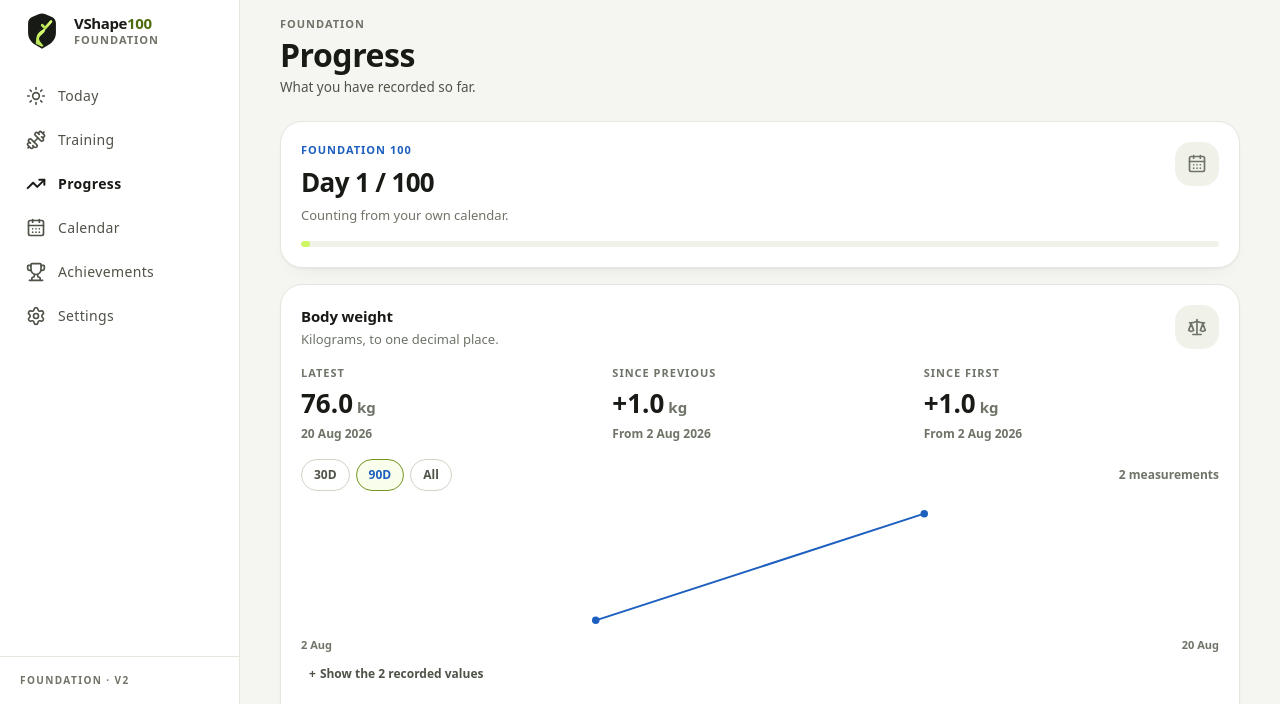
Test: 2. a FAILED refetch at midnight › recovers on retry, without having shown stale data as current
Expected: the heading "Progress" is shown, 280,32 -> 415,76
Step 1. Click the button "30D" → point(325, 475), box 301,459 -> 350,491
(page scrolled)
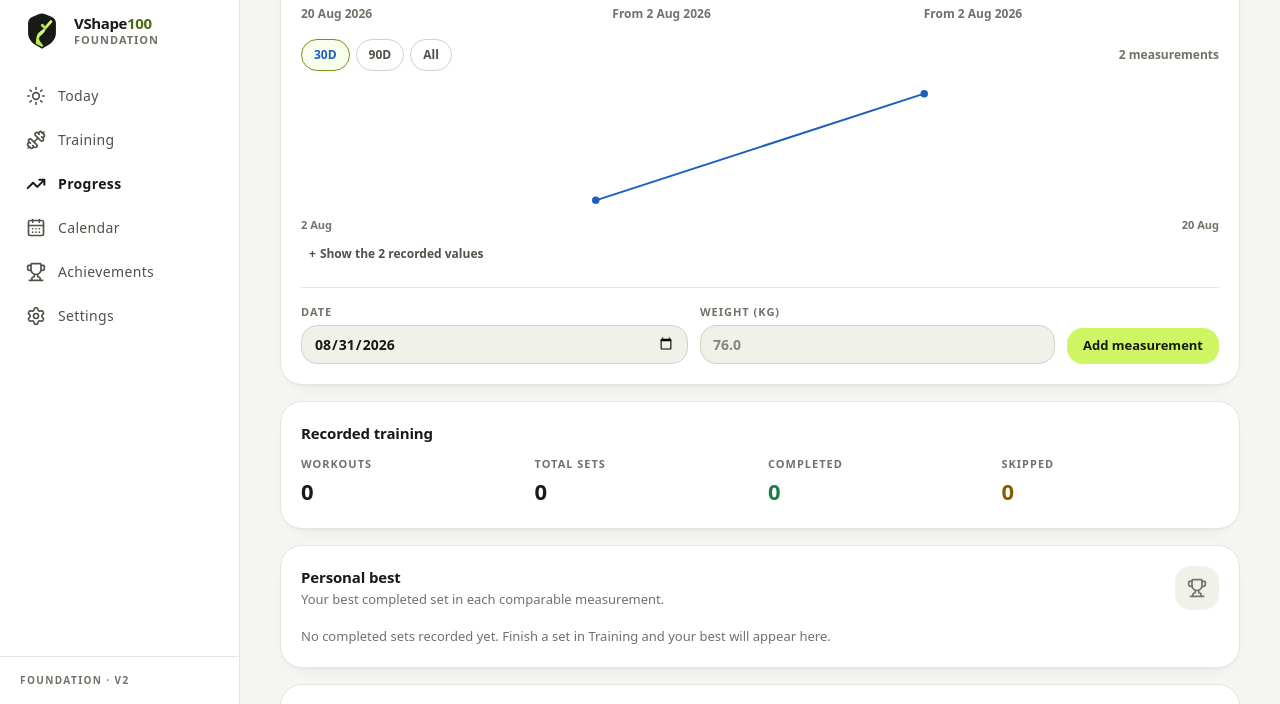
Expected: the text "2 measurements" is shown, 1119,46 -> 1219,64
Step 2. Type "2026-08-15" into the date field labelled "Date" → point(494, 344), box 301,325 -> 688,364
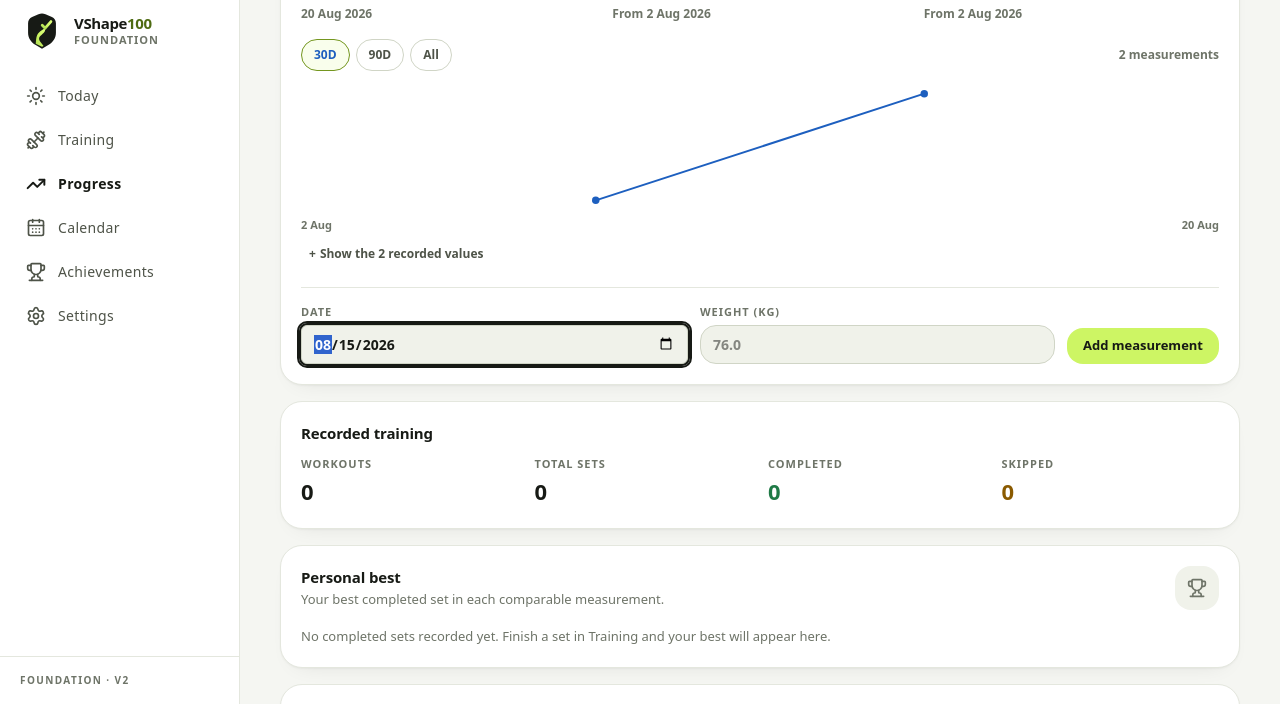
Step 3. Type "77.4" into the number field labelled "Weight (kg)" → point(878, 344), box 700,325 -> 1055,364
Wait 359700 ms
(page scrolled)
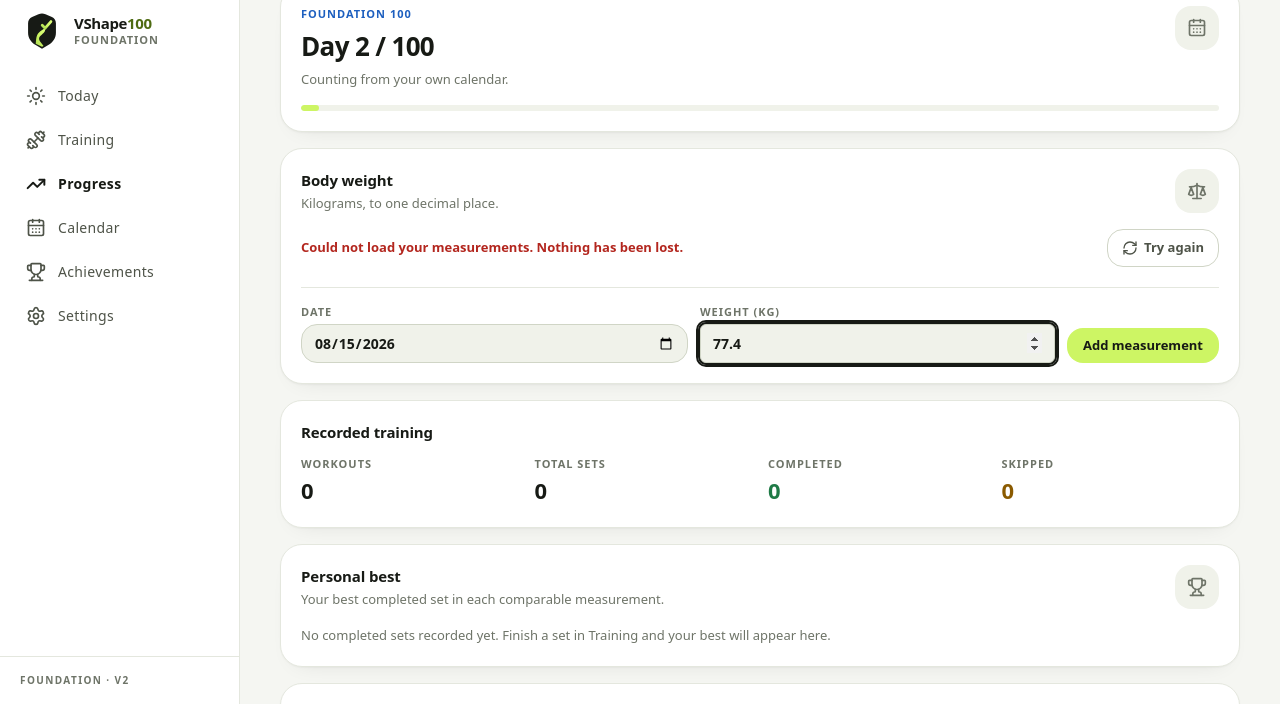
Step 4. Click the button "Try again" → point(1163, 248), box 1107,229 -> 1219,267
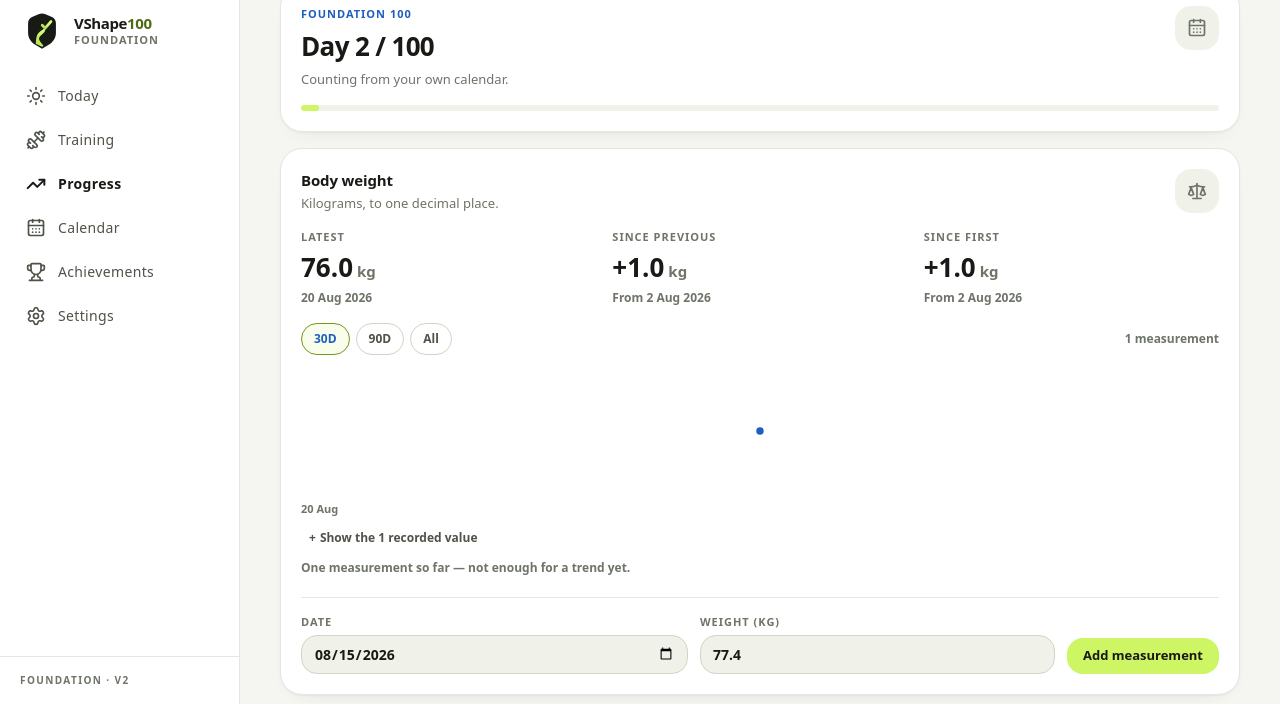
Result: the text "1 measurement" is shown at 1125,330 -> 1219,348
